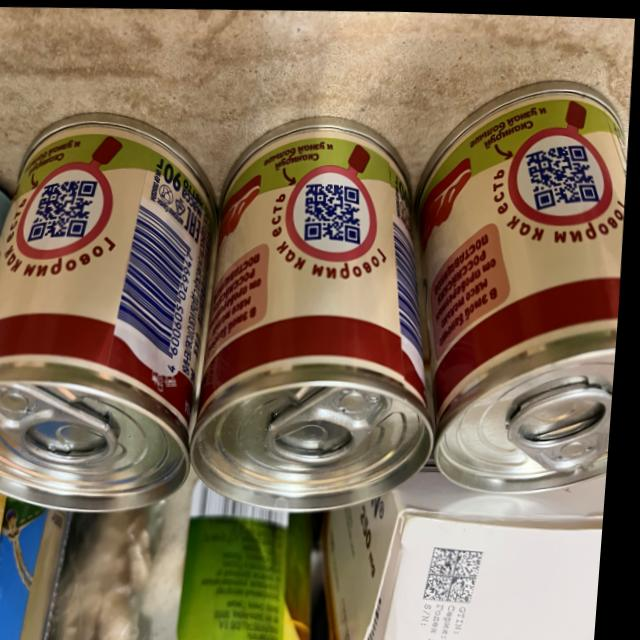datamatrix: (430, 543, 492, 601)
qrcode: (524, 140, 605, 209), (29, 177, 102, 243), (304, 180, 367, 243)
